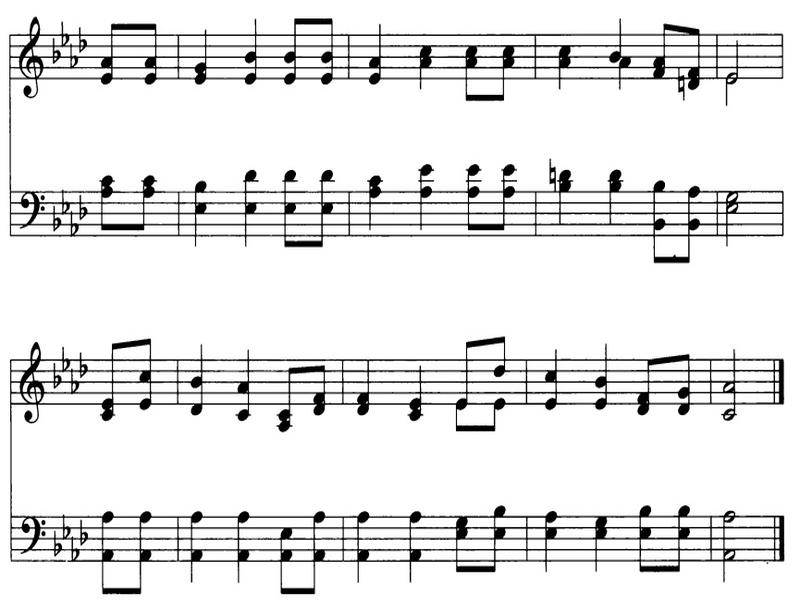B: (726, 188, 743, 260), (723, 336, 742, 394), (720, 504, 740, 544), (718, 546, 740, 582), (727, 38, 743, 84), (722, 72, 740, 112), (722, 397, 741, 429)
Bem: (77, 16, 94, 55), (62, 497, 76, 540), (77, 513, 92, 545), (47, 204, 61, 236), (49, 527, 62, 558), (77, 346, 88, 382), (59, 183, 71, 215), (69, 213, 79, 247), (49, 34, 59, 67), (65, 539, 80, 561), (67, 371, 77, 403), (60, 342, 71, 371), (60, 12, 69, 47), (79, 189, 89, 220), (67, 46, 77, 73), (49, 364, 60, 387)
C: (663, 484, 699, 579), (277, 156, 308, 259), (128, 499, 161, 594), (99, 322, 129, 426), (308, 159, 340, 254), (278, 1, 312, 88), (130, 324, 161, 414), (449, 319, 480, 409), (675, 174, 704, 270), (131, 8, 166, 86), (497, 134, 524, 232), (97, 1, 125, 93), (479, 501, 512, 577), (646, 174, 671, 266), (487, 39, 521, 105), (266, 524, 297, 594), (673, 334, 697, 417), (449, 504, 476, 576), (131, 171, 158, 241), (631, 498, 655, 576), (282, 355, 305, 436), (633, 353, 661, 419), (652, 11, 678, 82), (305, 353, 331, 418), (488, 324, 516, 384), (317, 9, 337, 92), (94, 168, 117, 238), (98, 509, 115, 599), (687, 23, 708, 91), (463, 42, 486, 101), (466, 154, 483, 233), (303, 552, 329, 596), (484, 390, 509, 434), (446, 399, 471, 433)
CF: (17, 170, 51, 242), (15, 497, 48, 562)
CS: (15, 4, 49, 104), (17, 326, 47, 429)
N: (590, 314, 627, 419), (227, 10, 267, 94), (183, 5, 219, 91), (182, 161, 214, 252), (358, 4, 394, 83), (404, 155, 441, 228), (239, 160, 267, 254), (540, 502, 568, 585), (357, 161, 387, 234), (230, 342, 255, 426), (539, 337, 565, 417), (602, 144, 626, 227), (592, 514, 617, 591), (357, 340, 380, 423), (402, 504, 425, 586), (191, 330, 211, 421), (232, 508, 254, 580), (187, 510, 207, 589), (407, 358, 432, 420), (355, 514, 376, 584), (557, 165, 581, 226), (415, 34, 435, 91), (552, 38, 573, 88), (605, 6, 621, 69), (310, 509, 327, 545), (617, 55, 632, 90)
SOS: (664, 65, 687, 100), (546, 160, 557, 189)
